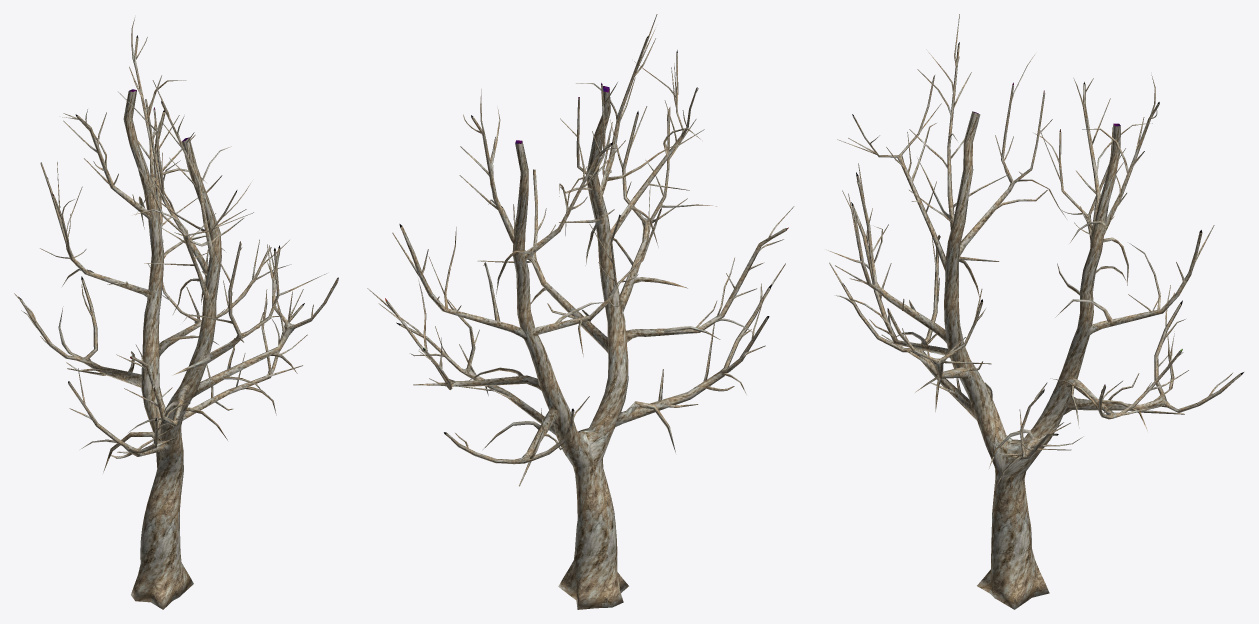
The model's file is plane-a-winter.fbx.
3 renders of one model, left to right at view 1: azimuth 30°, elevation 25°; view 2: azimuth 150°, elevation 25°; view 3: azimuth 270°, elevation 25°, orthographic. The views are drawn at different scales.
Visible parts, largest first — view 1: PlaneUK_a.001; view 2: PlaneUK_a.001; view 3: PlaneUK_a.001.
Boxes of the visible parts, x1=… form: PlaneUK_a.001: x1=14, y1=18, x2=338, y2=609; PlaneUK_a.001: x1=367, y1=14, x2=794, y2=609; PlaneUK_a.001: x1=826, y1=14, x2=1243, y2=609.
Bounding box in the file's own units: 667 × 1144 × 776.
